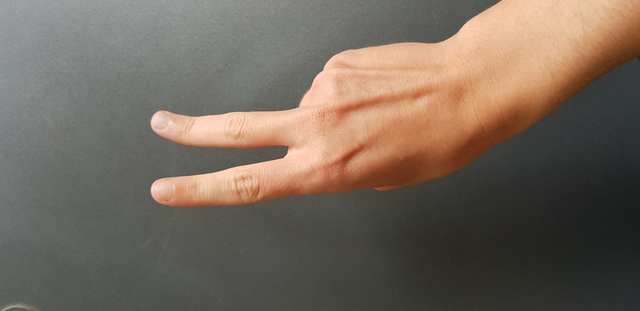Scissors: (124, 44, 493, 216)
